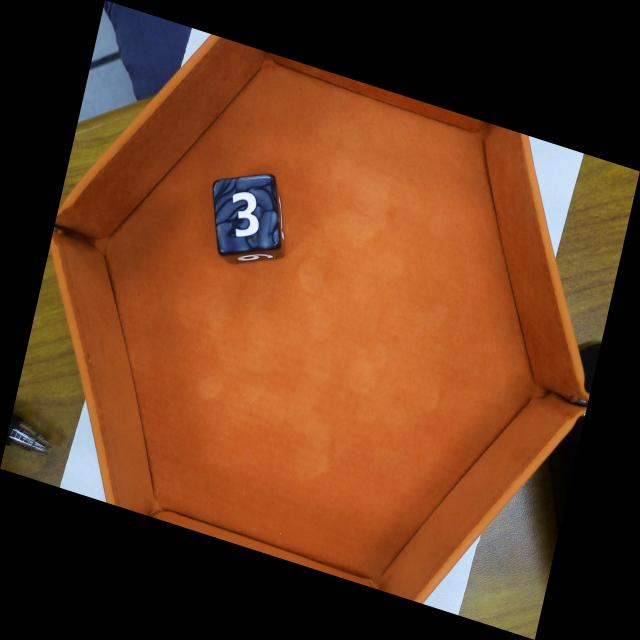dice: (210, 170, 284, 256)
